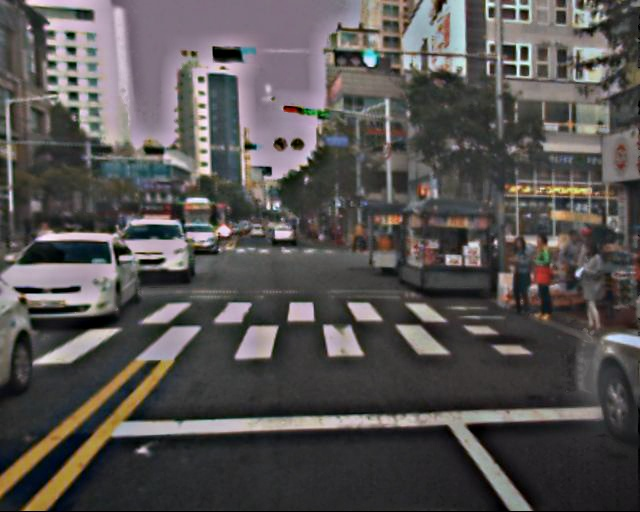person: (562, 237, 612, 336), (524, 234, 565, 323), (501, 235, 539, 316), (567, 225, 603, 309), (556, 228, 589, 310), (619, 231, 640, 334)
